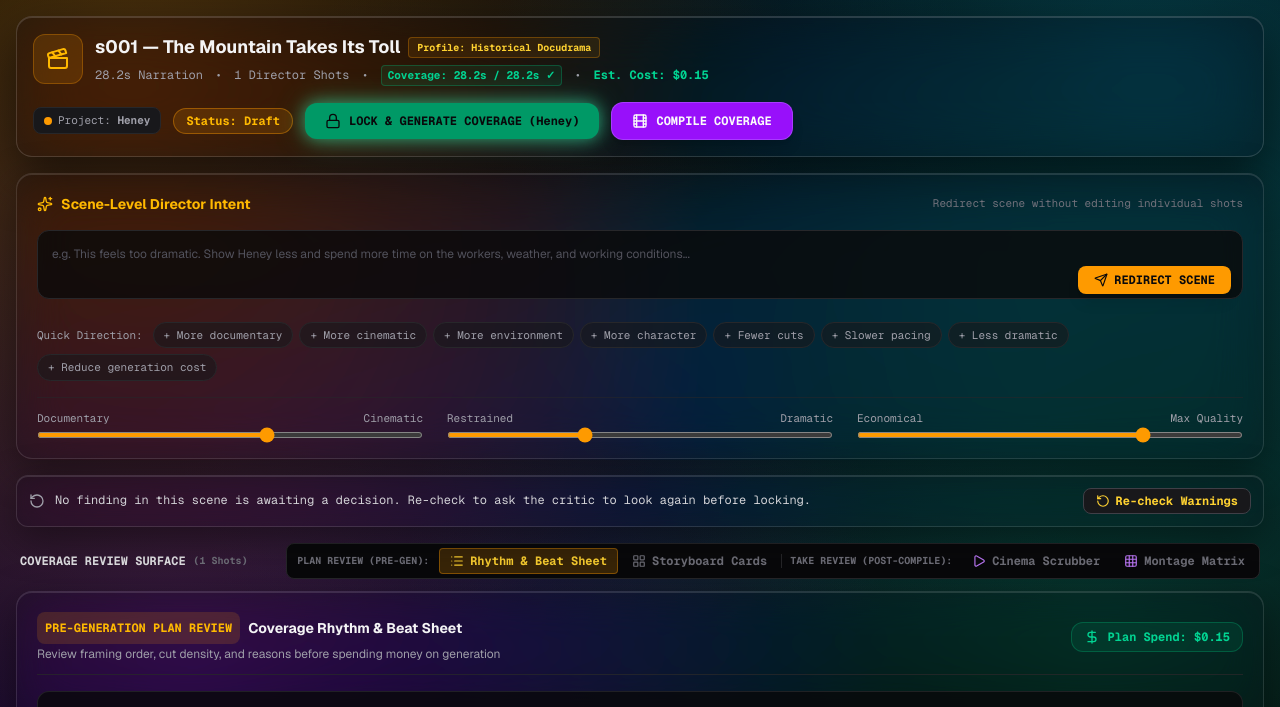
the critic raised nothing › a clean scene is stated as a result, not left as an absence
What coordinates should you click on to do the following:
click the button with test id "recheck-warnings-idle"
I would click on:
 (1167, 501)
Its box is top-left (1083, 488), bottom-right (1251, 514).
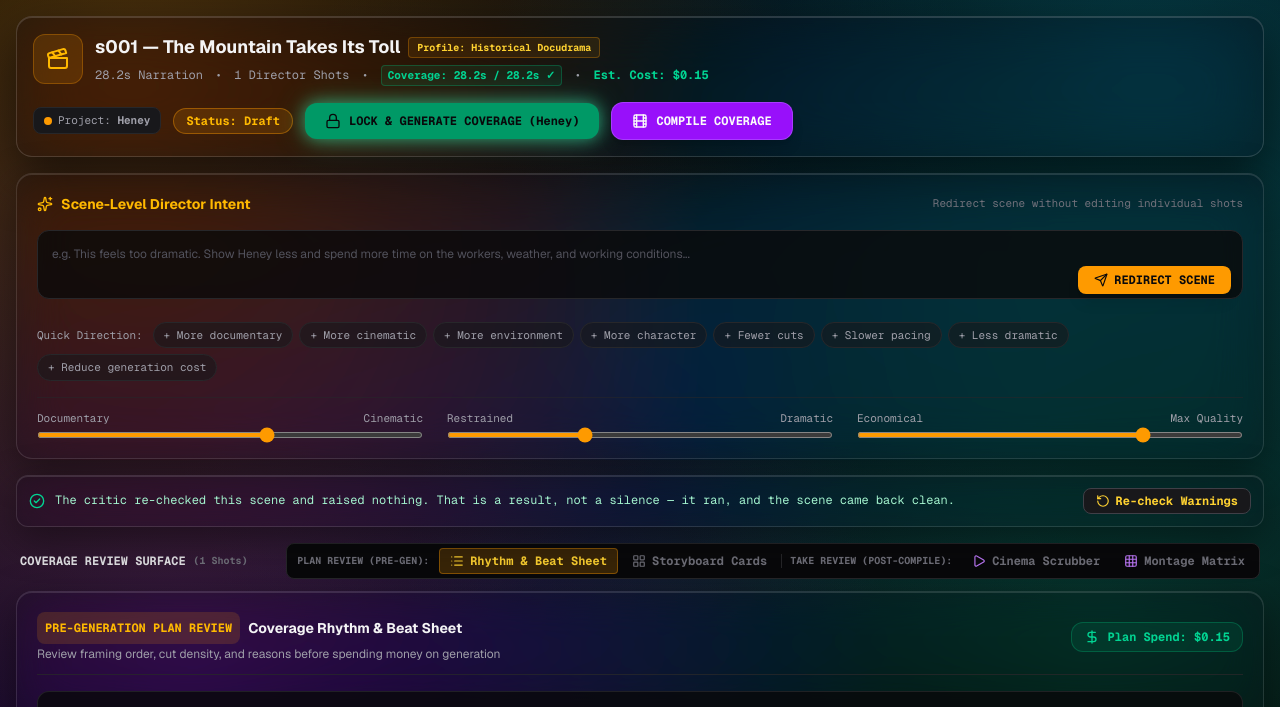
Expected: the element with test id "critique-outcome" shows "raised nothing", top-left (55, 492), bottom-right (955, 508)
Expected: the element with test id "critique-outcome" shows "it ran", top-left (55, 492), bottom-right (955, 508)
